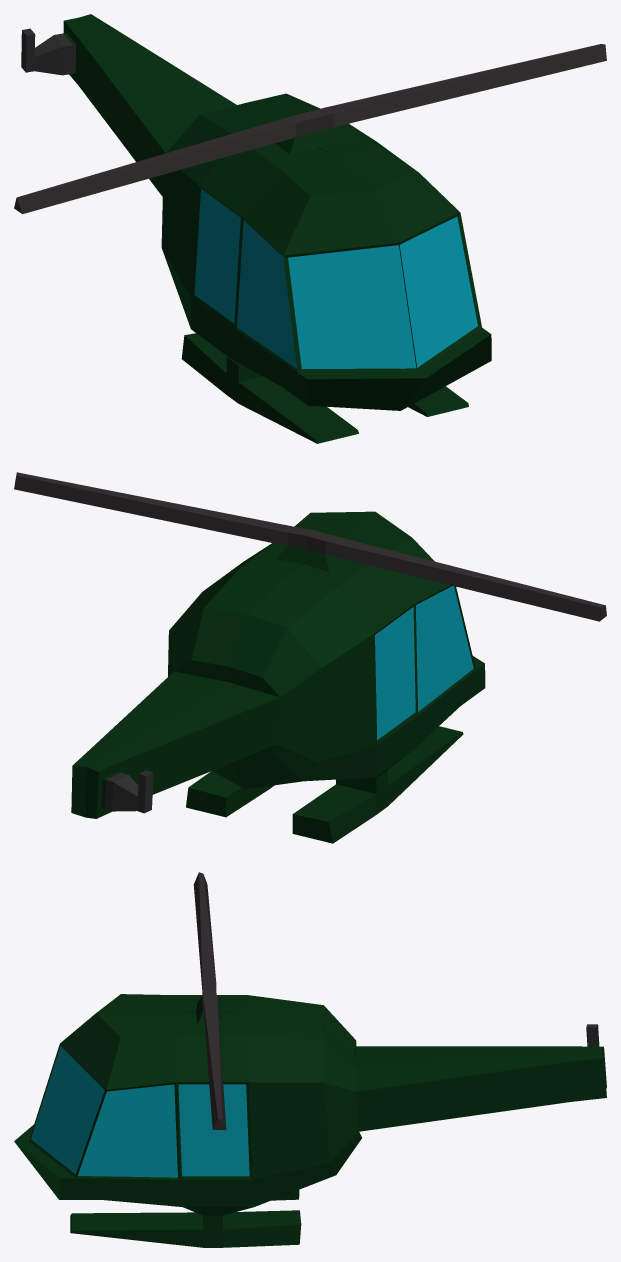
The model's file is helicopter.fbx.
The picture shows the model from 3 angles, top to bottom: view 1: azimuth 30°, elevation 25°; view 2: azimuth 150°, elevation 25°; view 3: azimuth 270°, elevation 25°; orthographic projection. The views are drawn at different scales.
Visible parts, largest first — view 1: Cube.002; view 2: Cube.002; view 3: Cube.002.
Boxes of the visible parts, x1=… form: Cube.002: x1=14, y1=14, x2=606, y2=443; Cube.002: x1=14, y1=472, x2=606, y2=843; Cube.002: x1=14, y1=872, x2=606, y2=1247.
Size of the model in its own units: 1158 by 494 by 1174.
